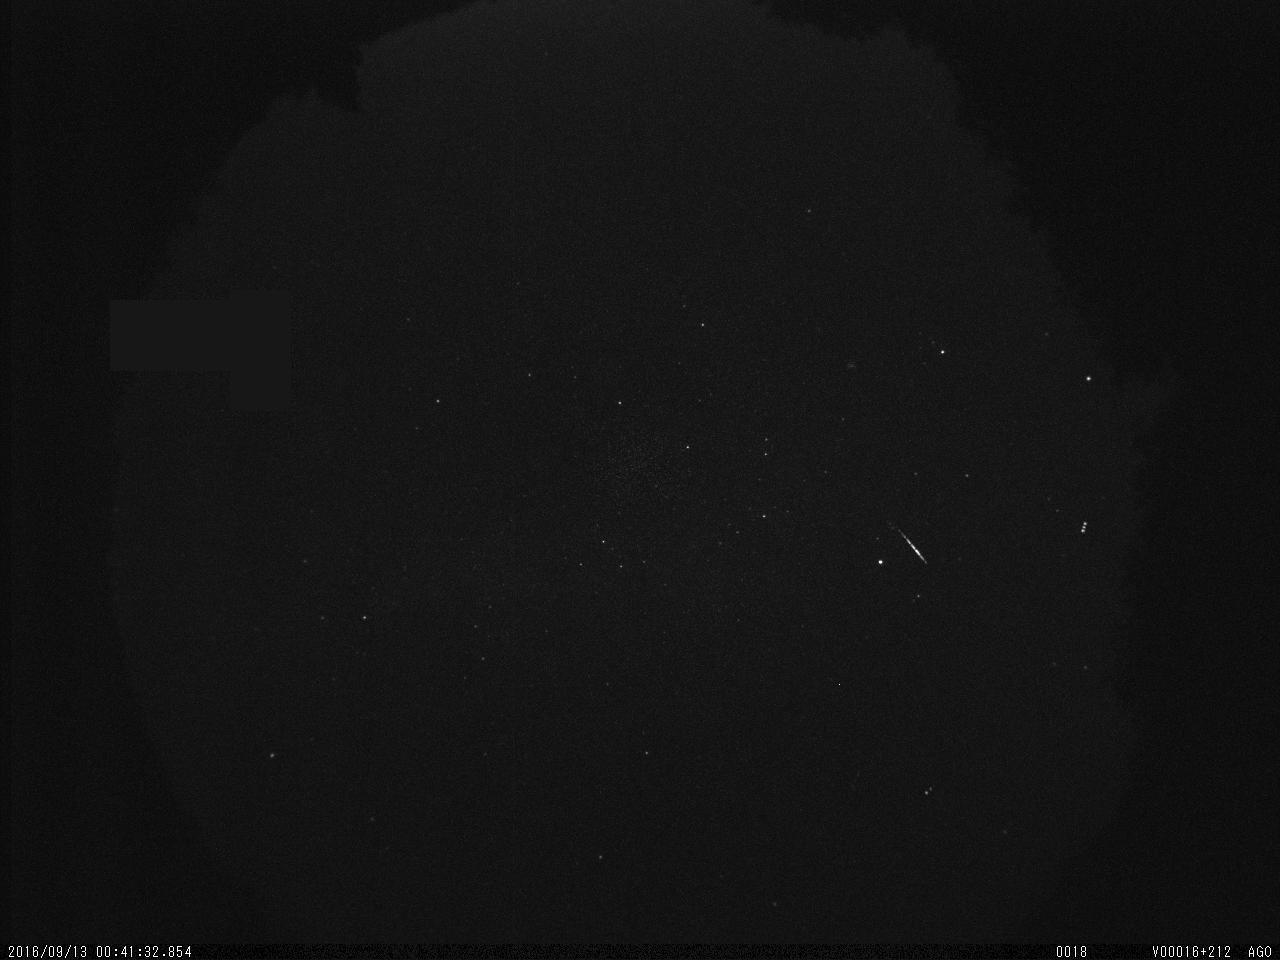meteor: (868, 514, 960, 588)
